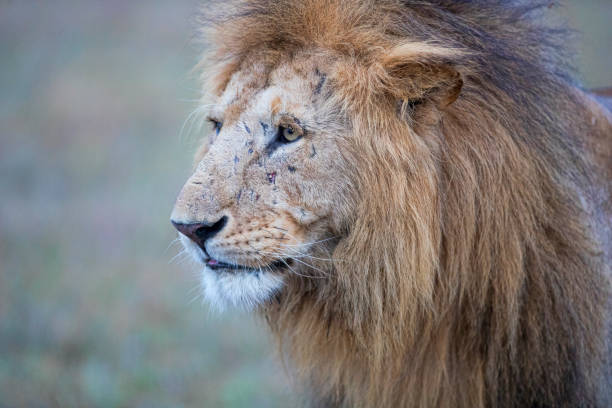lion: (157, 3, 600, 408)
